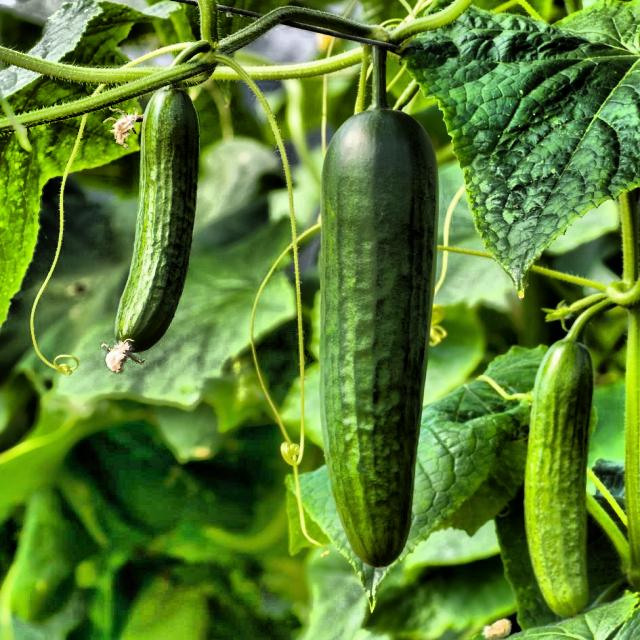cucumber: (298, 83, 438, 571)
